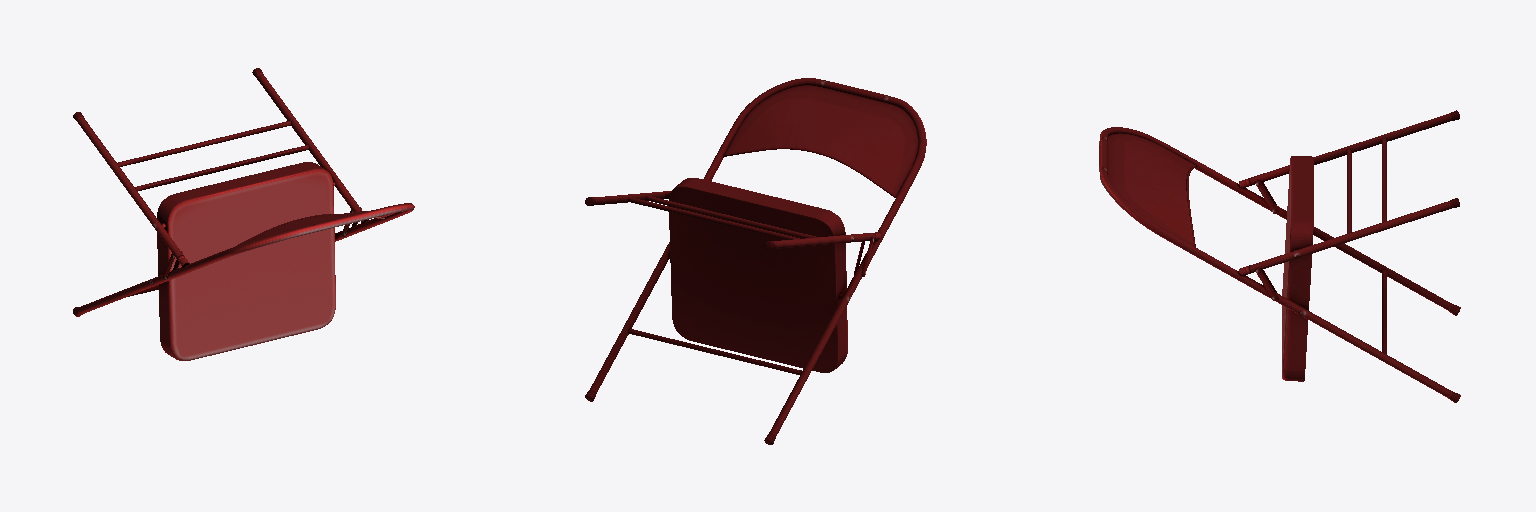
3 views of the same model, side by side, from view 1: azimuth 30°, elevation 25°; view 2: azimuth 150°, elevation 25°; view 3: azimuth 270°, elevation 25° (orthographic).
Visible parts, largest first — view 1: 10227_Folding_Chair_metal_v2_SG; view 2: 10227_Folding_Chair_metal_v2_SG; view 3: 10227_Folding_Chair_metal_v2_SG.
Boxes of the visible parts, <box> form: 10227_Folding_Chair_metal_v2_SG: <box>73,68,414,360</box>; 10227_Folding_Chair_metal_v2_SG: <box>585,78,926,444</box>; 10227_Folding_Chair_metal_v2_SG: <box>1099,110,1460,402</box>.
Bounding box in the file's own units: 45.65 × 47.75 × 75.83.
Materials: 1 (1 with a texture image).